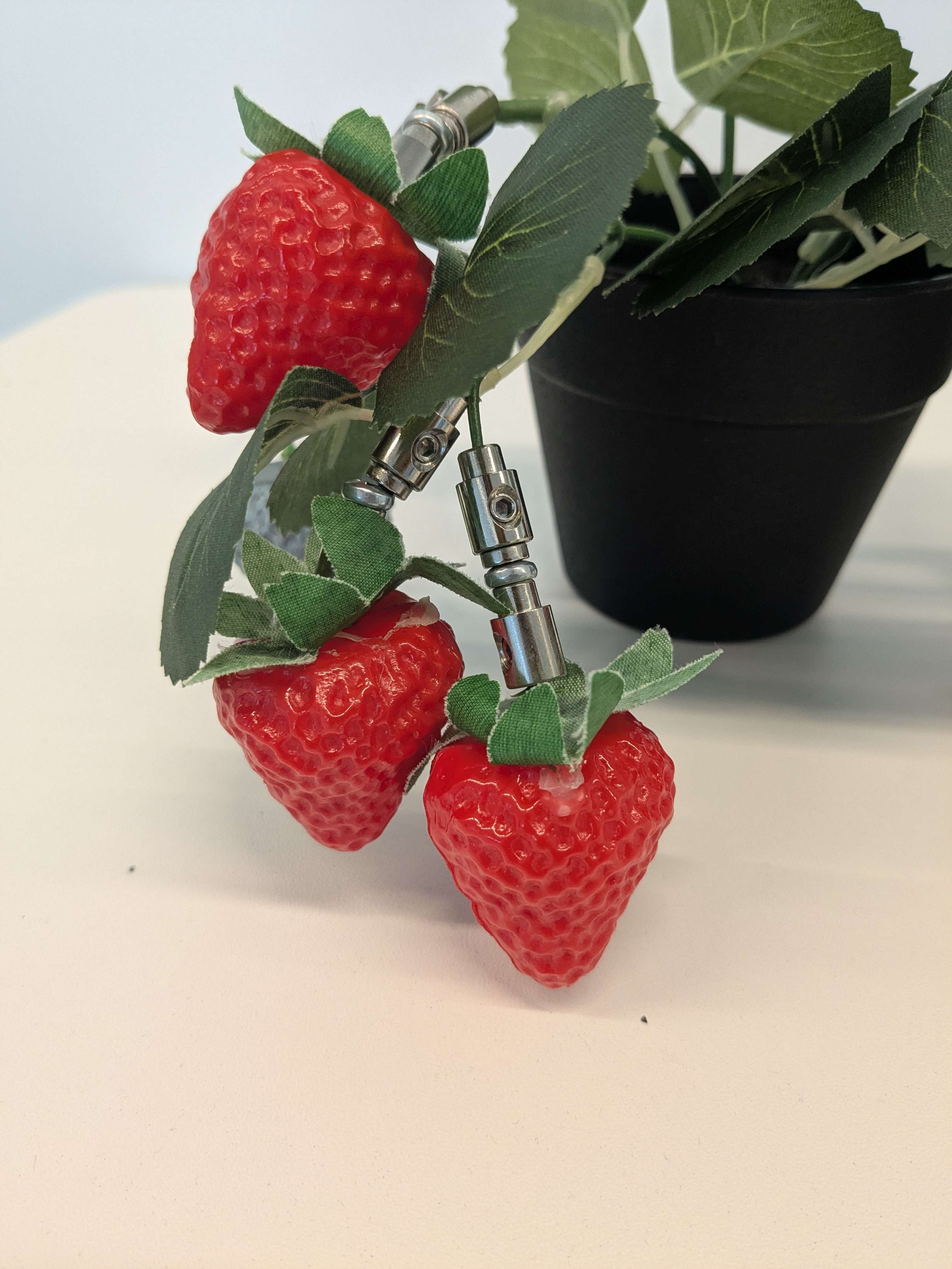Strawberry: (148, 117, 466, 440), (182, 544, 470, 879), (413, 691, 692, 1021)
